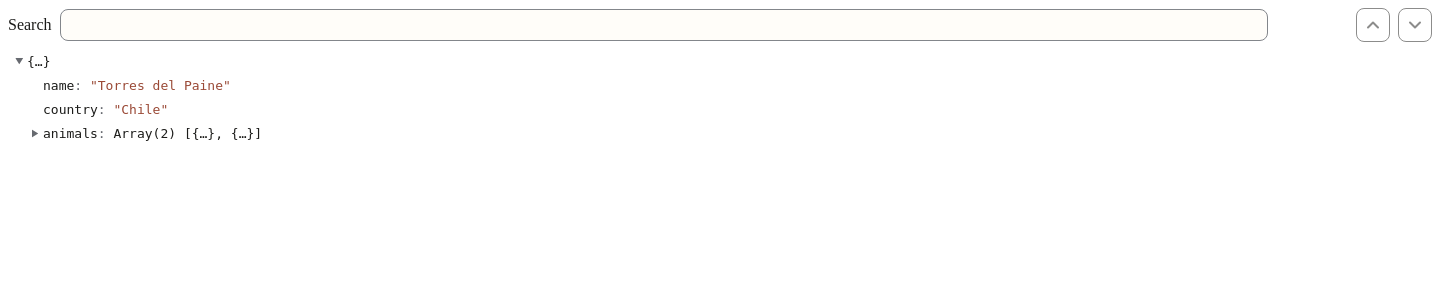
Test case: ObjectInspector › search › opens the way to a match on Enter and selects it, keeping focus in the field
Type "guanaco" into the search field at (664, 25), box [60,9,1268,41]
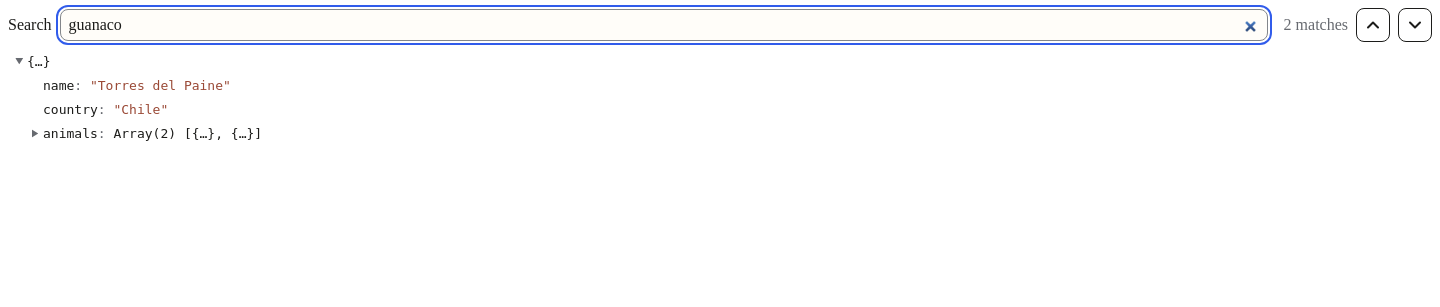
expect the text "2 matches" is shown: met, box [1276,16,1348,34]
Press Enter
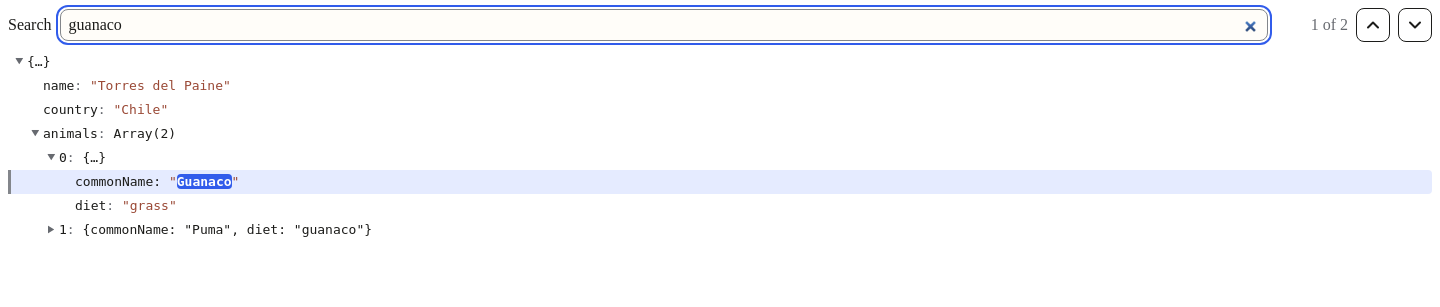
expect the text "1 of 2" is shown: met, box [1311,16,1348,33]
expect the element showing "commonName: \"Guanaco\"" reads "commonName: \"Guanaco\"": met, box [75,172,239,192]
Press Enter
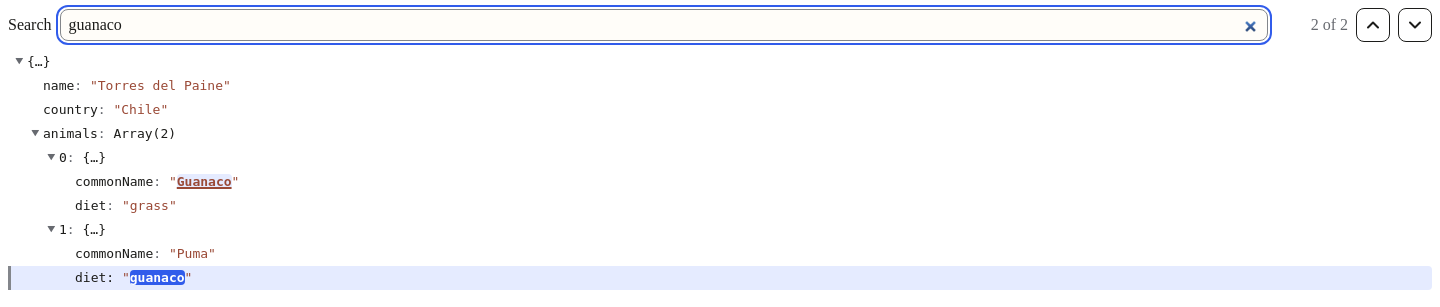
expect the text "2 of 2" is shown: met, box [1311,16,1348,33]
expect the element showing "diet: \"guanaco\"" reads "diet: \"guanaco\"": met, box [75,268,192,288]
